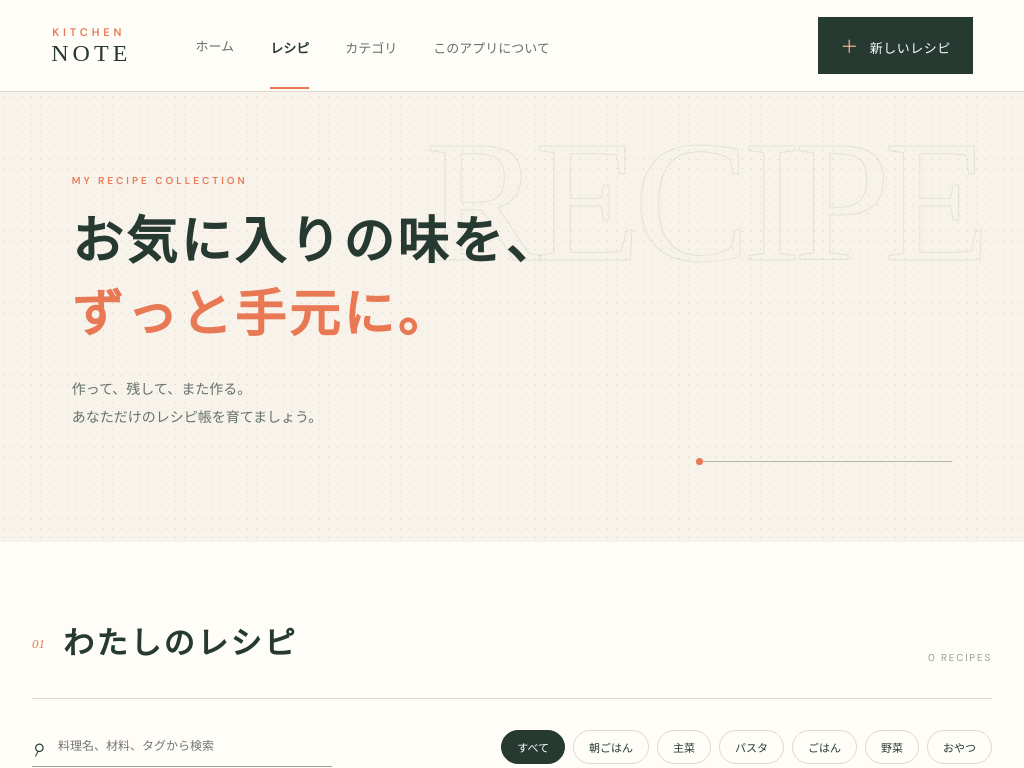
Test: RecipeApp › keeps the hidden cover input optional and explains why save is disabled
Click the button "＋ 新しいレシピ".
click(896, 46)  # box [818, 17, 973, 74]
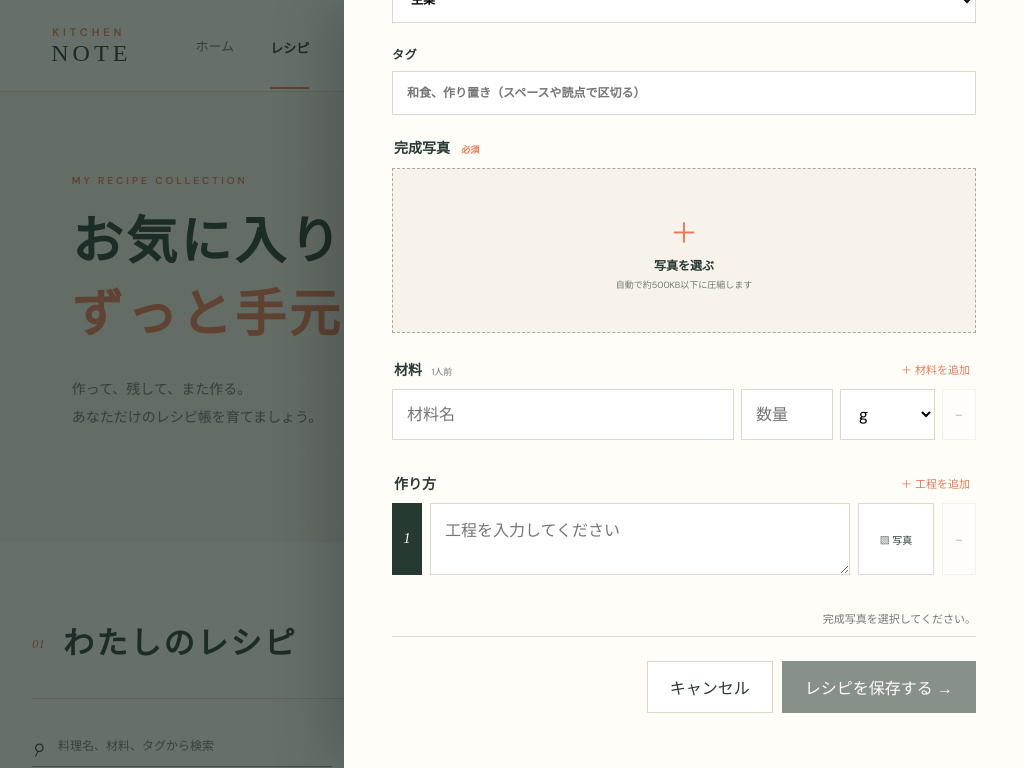
Check: the text "完成写真を選択してください。" is shown, box [823, 612, 976, 626]
Check: the button "レシピを保存する →" is disabled, box [782, 661, 976, 713]
